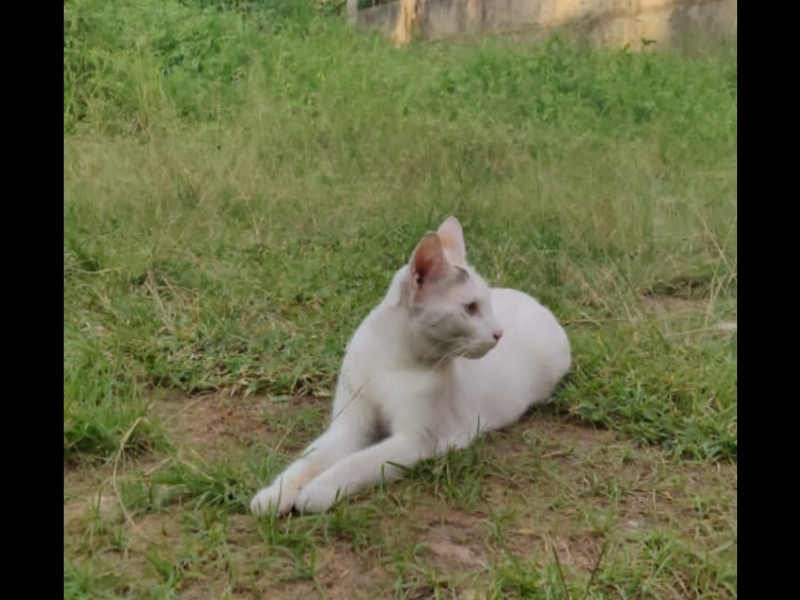cat: (244, 210, 576, 526)
